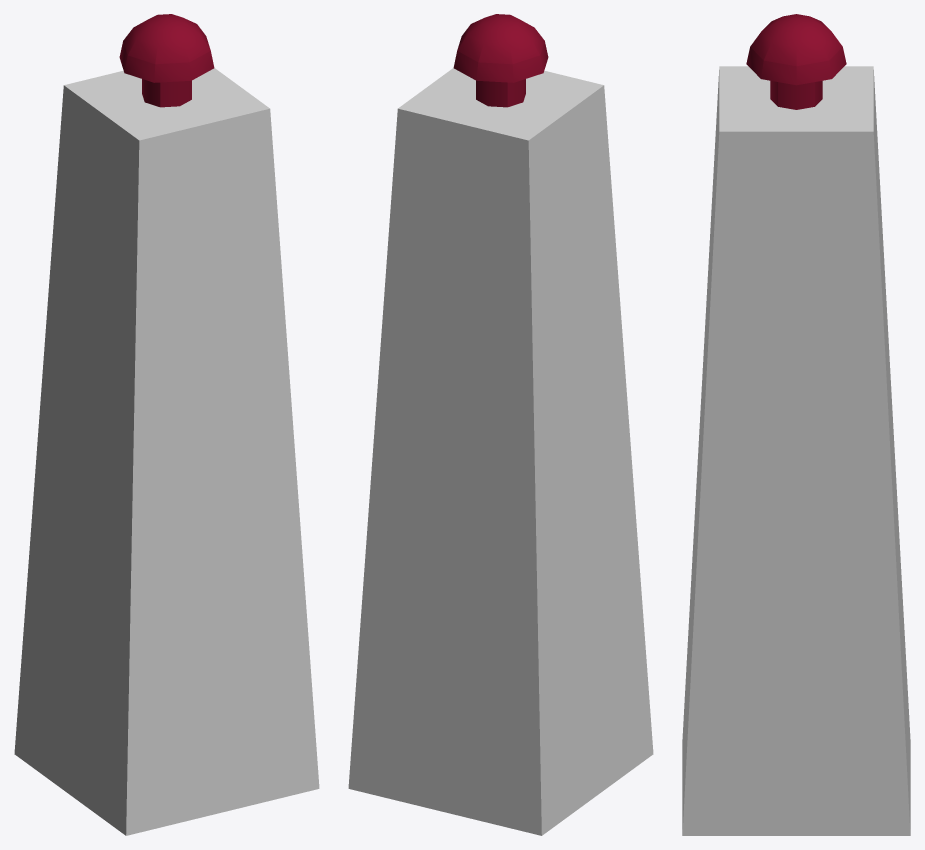
File: boutob.fbx
3 renders of one model, left to right at view 1: azimuth 30°, elevation 25°; view 2: azimuth 150°, elevation 25°; view 3: azimuth 270°, elevation 25°, orthographic. The views are drawn at different scales.
Parts seen in each view (by area): view 1: Box, Capsule; view 2: Box, Capsule; view 3: Box, Capsule.
Boxes of the visible parts, box(x1,y1,x2,y2) form: Box: box(14, 68, 319, 835); Capsule: box(119, 14, 214, 107); Box: box(348, 68, 653, 835); Capsule: box(453, 14, 548, 107); Box: box(682, 66, 910, 835); Capsule: box(746, 14, 846, 109).
Size of the model in its own units: 30 by 112 by 30.
